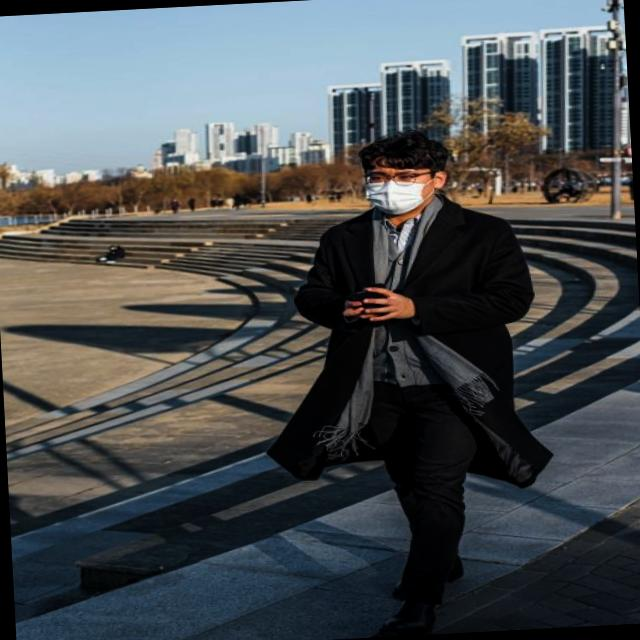coat: (253, 187, 556, 501)
denimpants: (368, 374, 484, 606)
